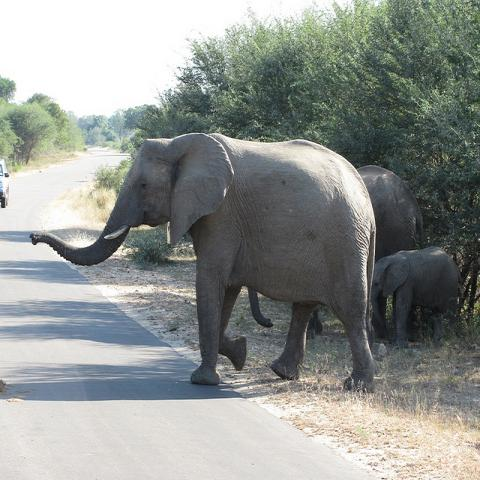car: (0, 158, 9, 207)
